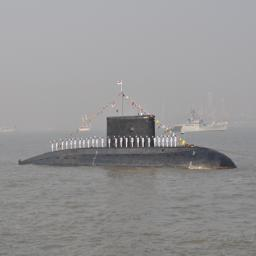submarine: (20, 116, 238, 170)
